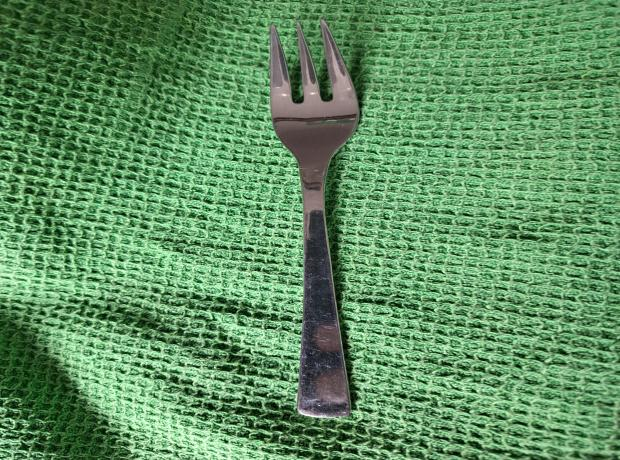metal: (260, 18, 368, 420)
